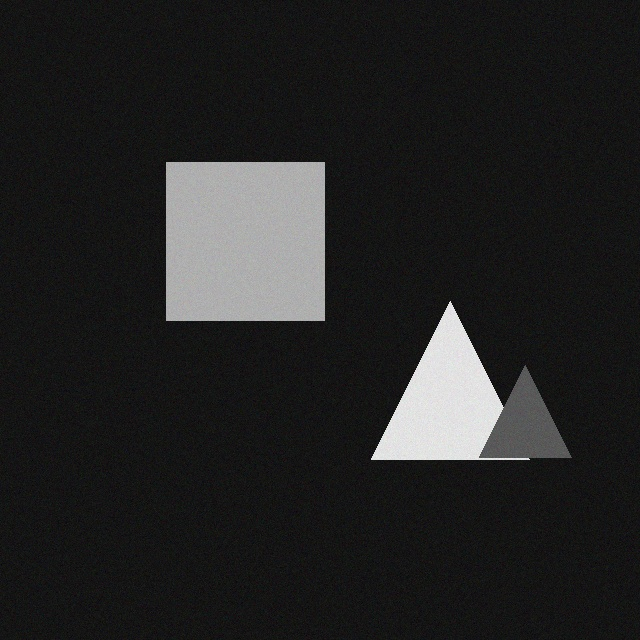square: (153, 165, 311, 323)
triangle: (358, 304, 516, 462), (466, 368, 558, 460)
